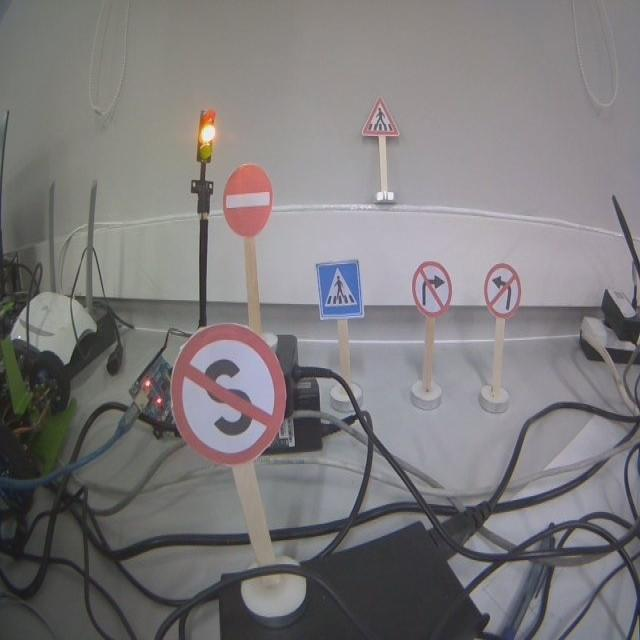Dilarang Belok Kanan: (413, 261, 451, 315)
Dilarang Belok Kiri: (484, 263, 521, 317)
Dilarang Masuk: (222, 164, 273, 236)
Lampu Kuning: (197, 108, 216, 161)
Rambu Berhenti: (172, 324, 287, 460)
Rambu Penyebrangan: (316, 258, 363, 318), (363, 99, 399, 136)
